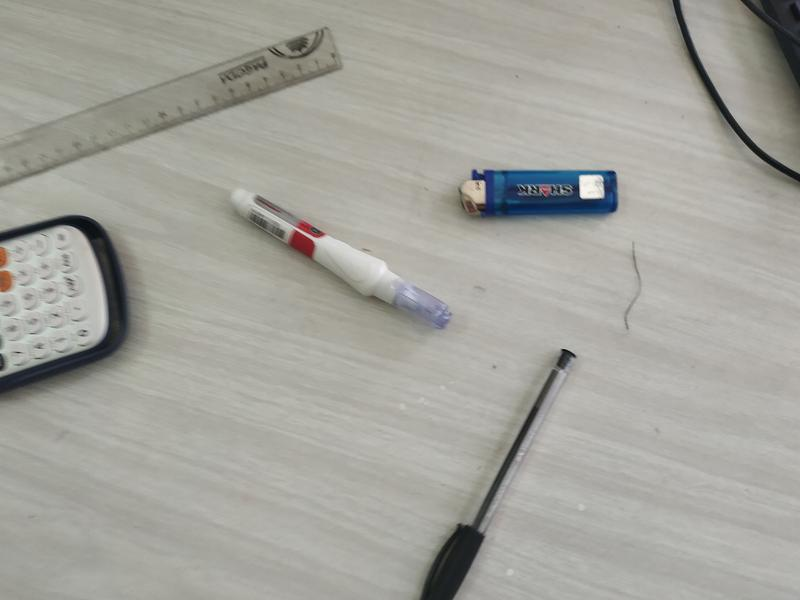calculadora: (1, 211, 119, 395)
corrector: (218, 180, 459, 335)
encendedor: (458, 155, 623, 236)
lapicera: (416, 344, 590, 600)
regla: (1, 21, 346, 186)
